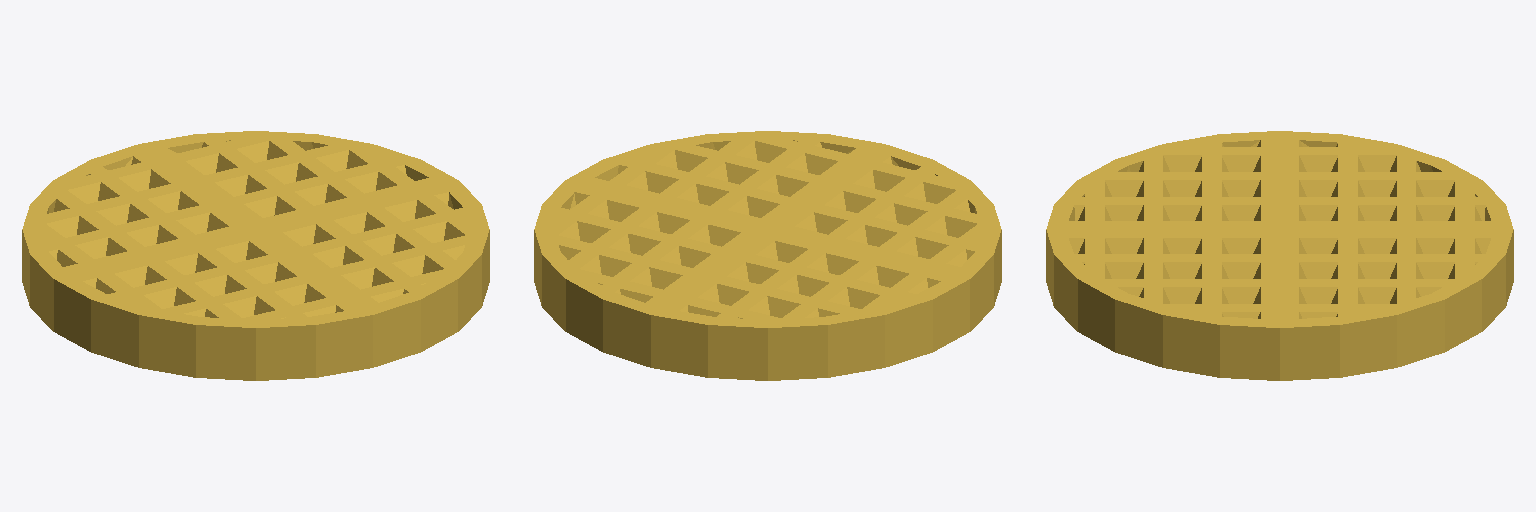
File: waffle.obj
3 views of the same model, side by side, from view 1: azimuth 30°, elevation 25°; view 2: azimuth 150°, elevation 25°; view 3: azimuth 270°, elevation 25° (orthographic).
Visible parts, largest first — view 1: Mesh1 Waffle1 Model; view 2: Mesh1 Waffle1 Model; view 3: Mesh1 Waffle1 Model.
Boxes of the visible parts, x1,y1,x2,y2 form: Mesh1 Waffle1 Model: [22, 131, 489, 380]; Mesh1 Waffle1 Model: [534, 131, 1001, 380]; Mesh1 Waffle1 Model: [1046, 131, 1513, 380].
Bounding box in the file's own units: 0.1905 × 0.0238 × 0.1905.